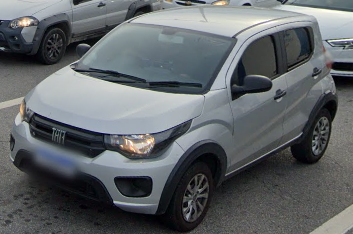car: (11, 3, 338, 229)
